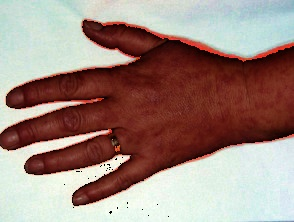SJS-TEN: (103, 15, 294, 172)
